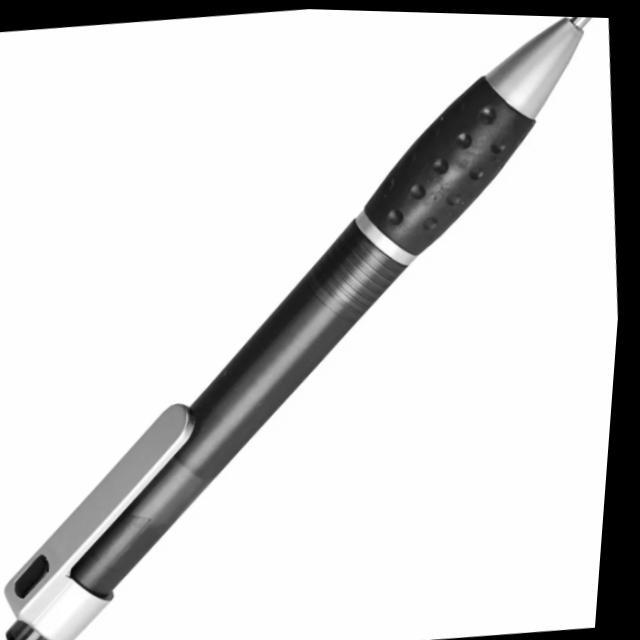pencil: (0, 11, 599, 640)
